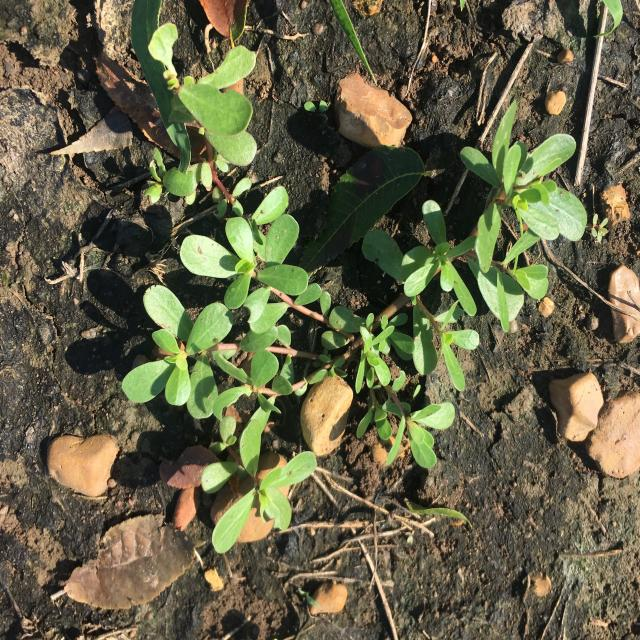Purslane: (122, 23, 609, 553)
